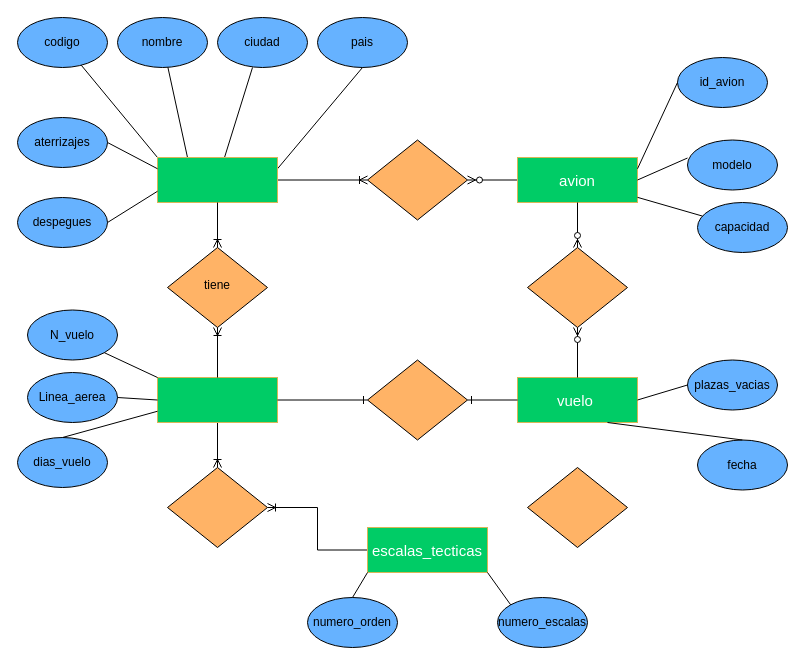
Image size: 805x665. Some labels were removed from this diagram. Each missing label, with the box of its shape:
aeropuerto: (156, 156, 278, 202)
avion_utilizado: (526, 246, 628, 328)
identificar: (526, 466, 628, 548)
incorporan: (166, 466, 268, 548)
pertenece: (366, 359, 468, 440)
progama_vuelo: (156, 376, 278, 422)
tomar: (366, 139, 468, 220)
